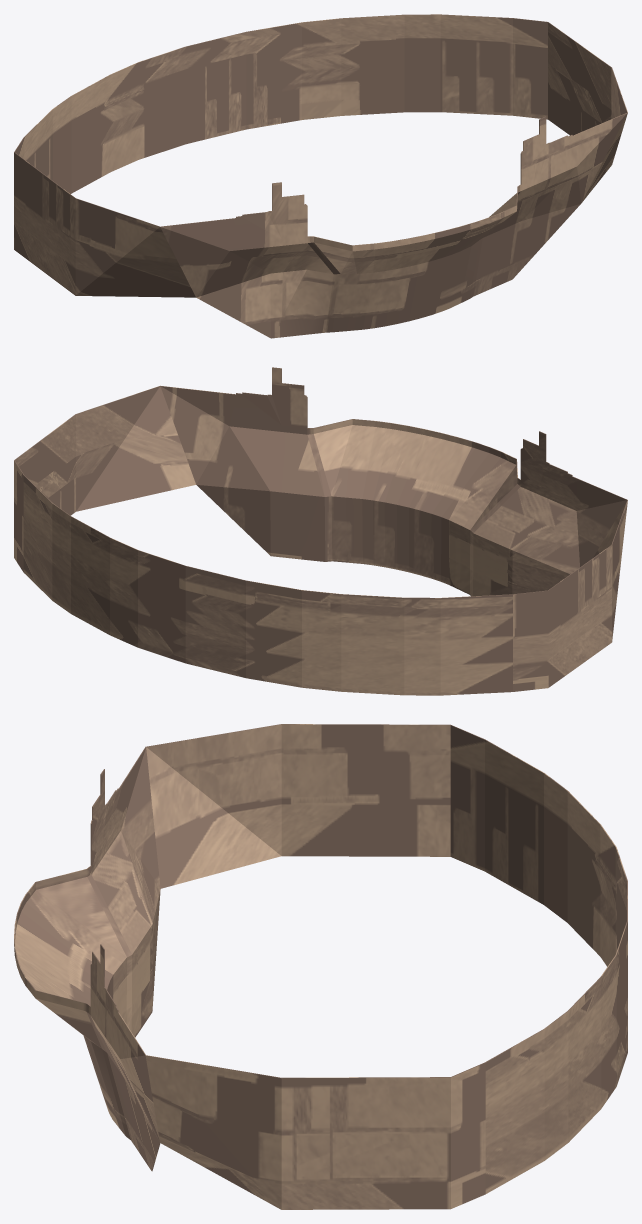
Rendered from cliff.fbx.
The picture shows the model from 3 angles, top to bottom: view 1: azimuth 30°, elevation 25°; view 2: azimuth 150°, elevation 25°; view 3: azimuth 270°, elevation 25°; orthographic projection. The views are drawn at different scales.
Visible parts, largest first — view 1: cliff; view 2: cliff; view 3: cliff.
Boxes of the visible parts, left/top/right/bottom form: cliff: left=14, top=14, right=627, bottom=338; cliff: left=14, top=367, right=627, bottom=695; cliff: left=14, top=724, right=627, bottom=1209.
Bounding box in the file's own units: 4322 × 1322 × 3167.
